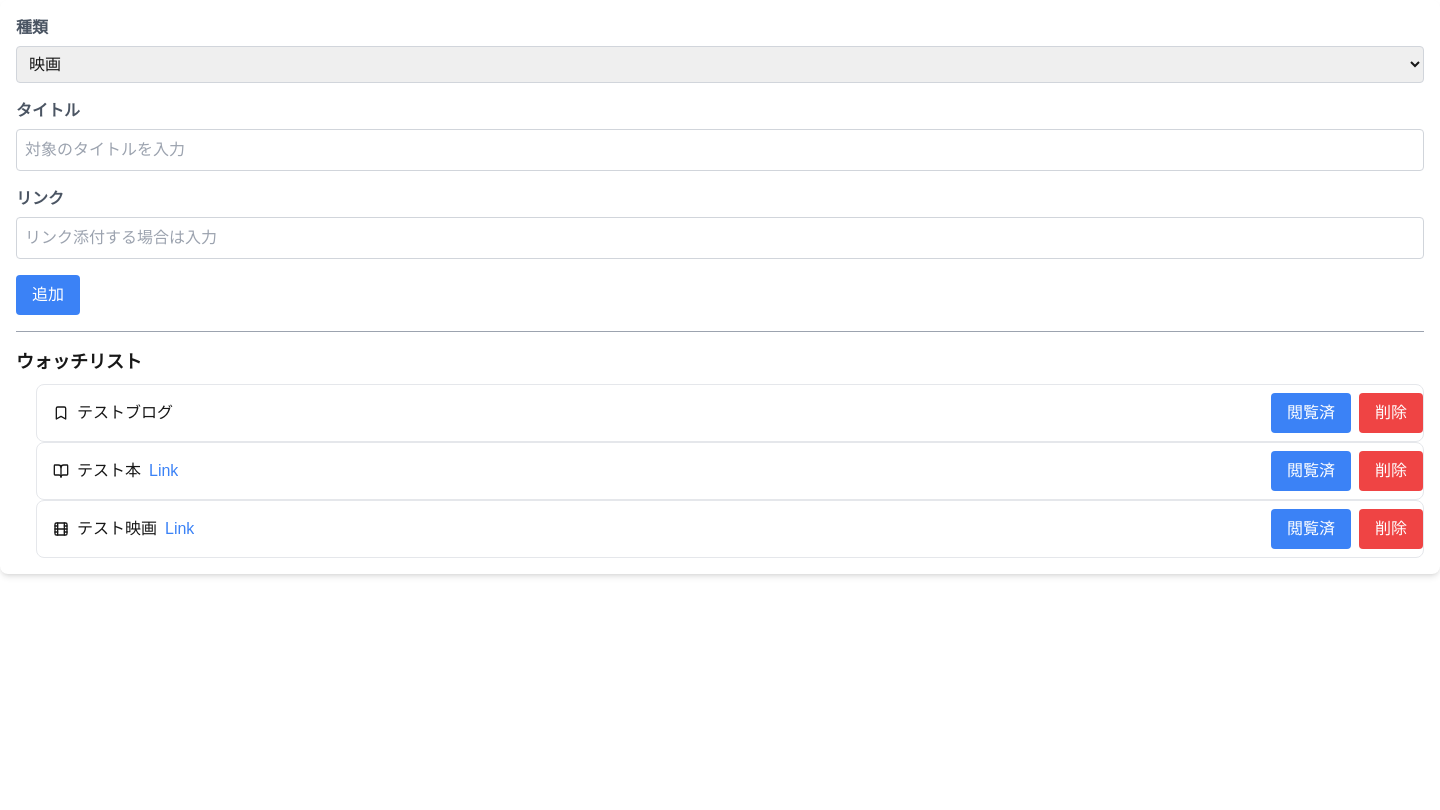
it: WatchListPage › ウォッチリスト削除 › 削除成功時にUIからアイテムが除去される
This screenshot has width=1440, height=810.
expect the text "テスト映画" is shown: met, box [77,517,157,541]
Click the button "削除" in the row of "テスト映画" at (1391, 529), box [1359,509,1423,549]
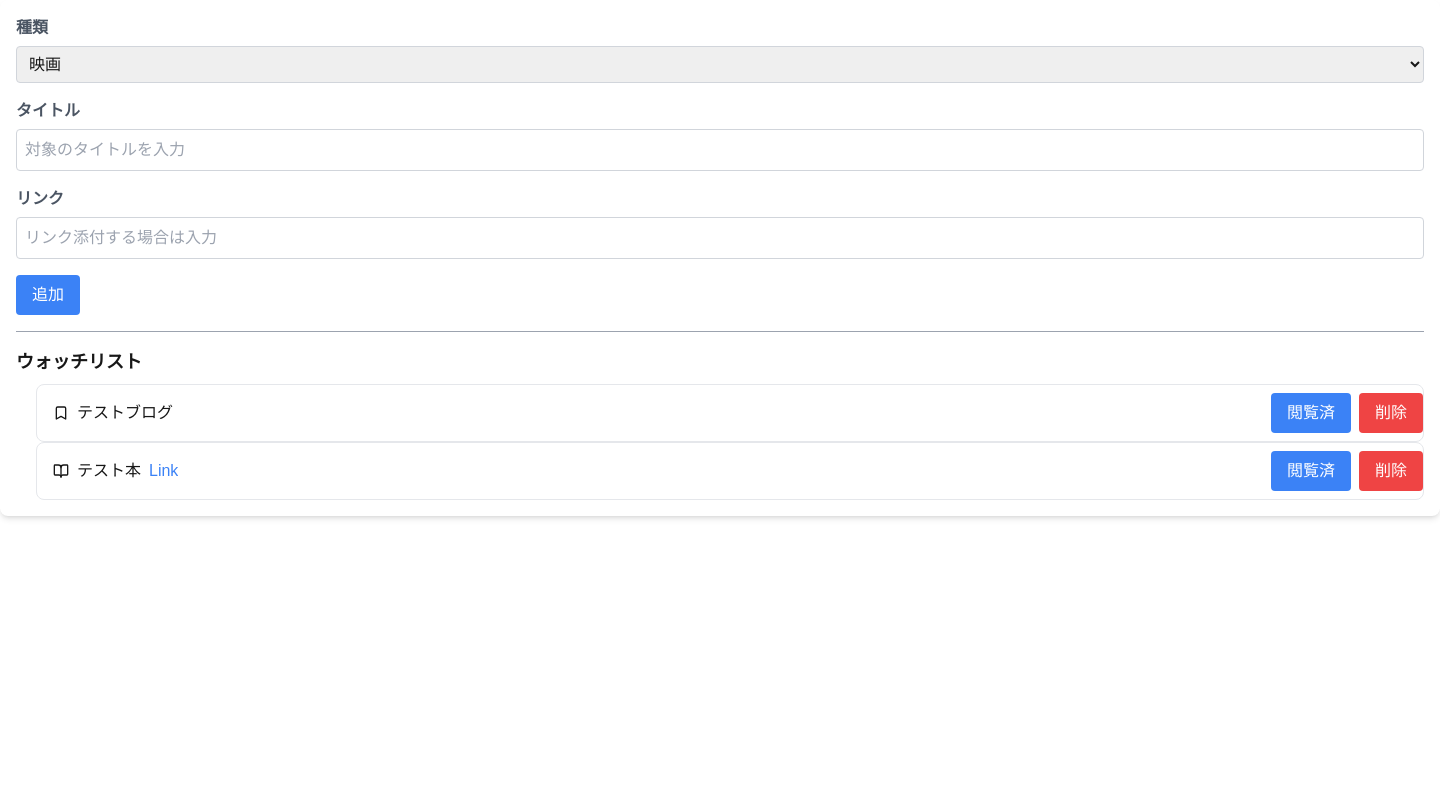
expect the text "テスト本" is shown: met, box [77,459,141,483]
expect the text "テスト映画" is gone: met
